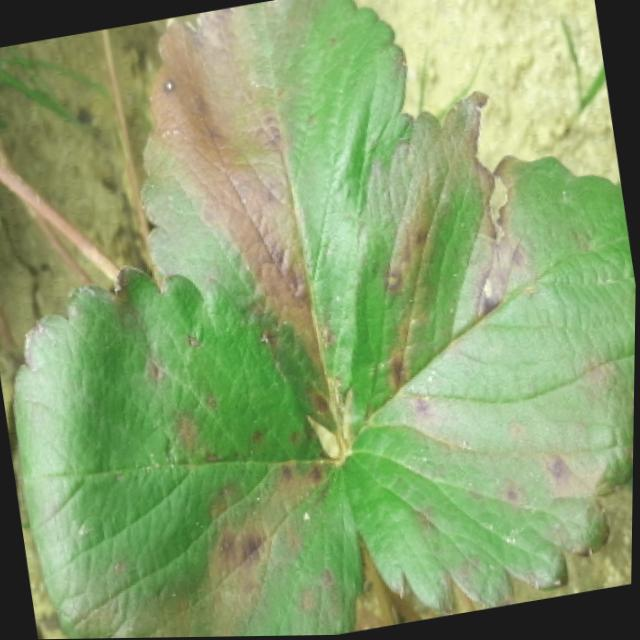Leaf Spot: (342, 93, 637, 617), (13, 267, 363, 639), (135, 0, 415, 442)
